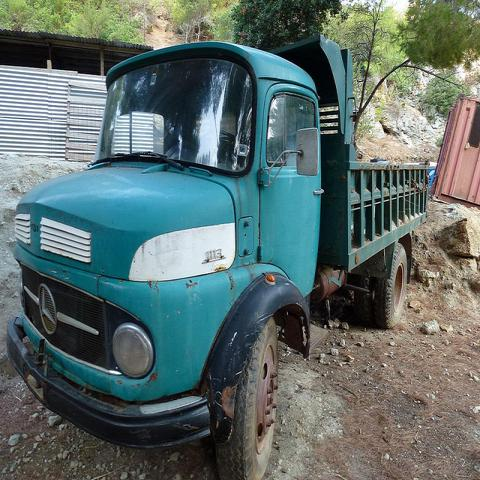truck: (4, 34, 441, 479)
